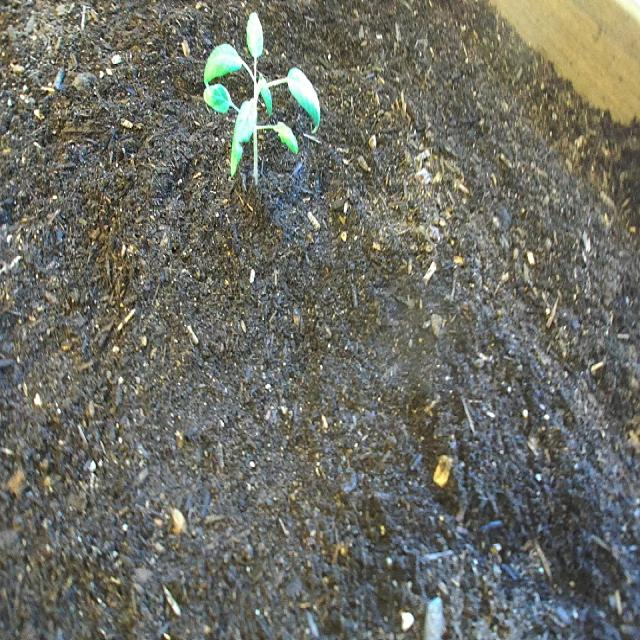Healthy: (202, 2, 324, 197)
